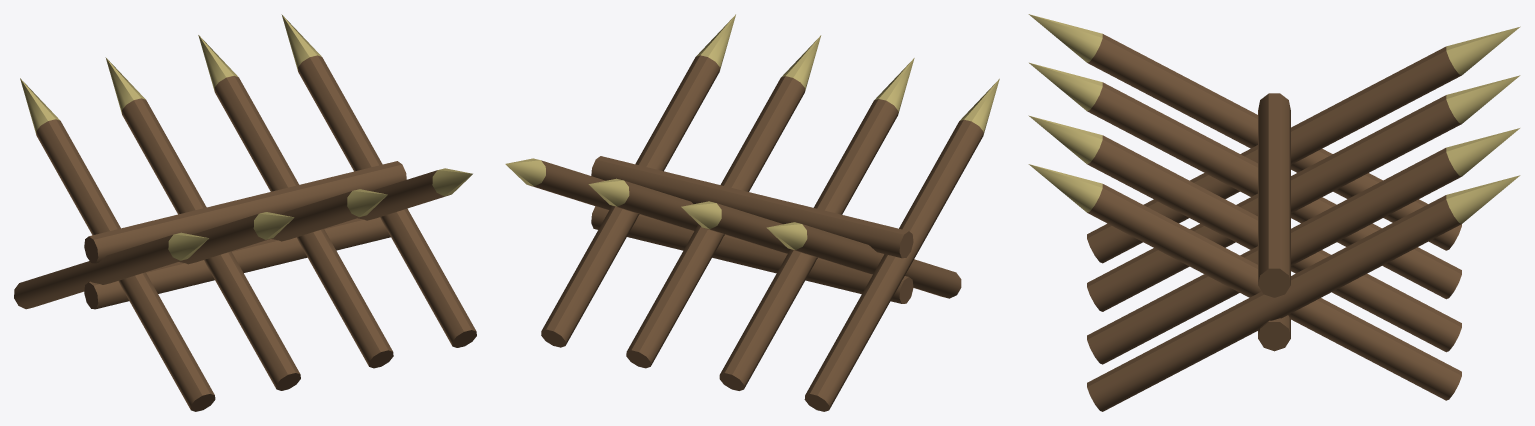
File: SmallBaricade.fbx
The picture shows the model from 3 angles, left to right: view 1: azimuth 30°, elevation 25°; view 2: azimuth 150°, elevation 25°; view 3: azimuth 270°, elevation 25°; orthographic projection. The views are drawn at different scales.
Parts seen in each view (by area): view 1: SmallBaricade; view 2: SmallBaricade; view 3: SmallBaricade.
Boxes of the visible parts, <box> form: SmallBaricade: <box>14,14,476,411</box>; SmallBaricade: <box>505,14,999,411</box>; SmallBaricade: <box>1028,14,1520,411</box>.
Size of the model in its own units: 100 by 62.42 by 119.
